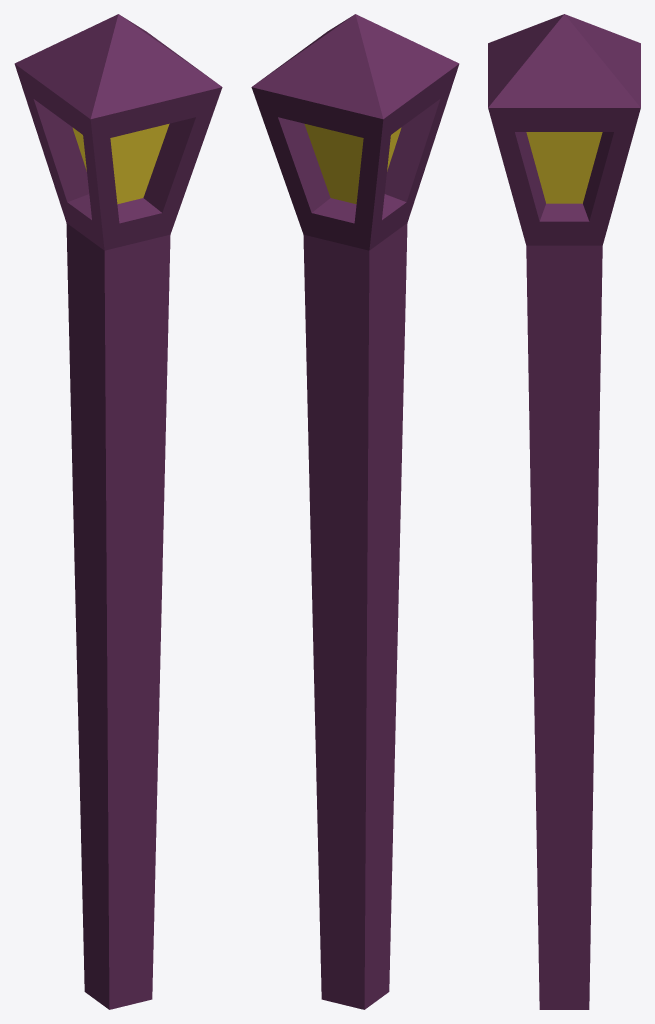
File: YellowWand.fbx
The picture shows the model from 3 angles, left to right: view 1: azimuth 30°, elevation 25°; view 2: azimuth 150°, elevation 25°; view 3: azimuth 270°, elevation 25°; orthographic projection.
Visible parts, largest first — view 1: Cube.002; view 2: Cube.002; view 3: Cube.002.
Boxes of the visible parts, <box> form: Cube.002: <box>14,14,222,1009</box>; Cube.002: <box>251,14,459,1009</box>; Cube.002: <box>488,14,640,1009</box>.
Size of the model in its own units: 22.5 by 160 by 22.5.
